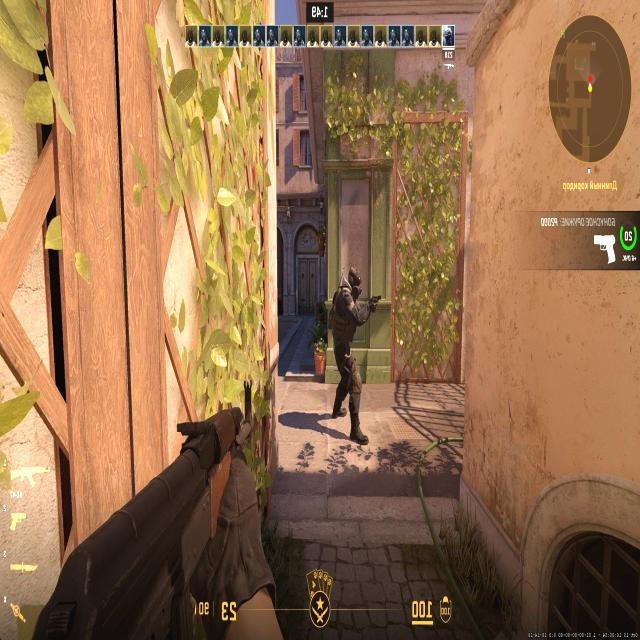CT: (338, 272, 362, 393)
CT_heat: (347, 281, 361, 304)
